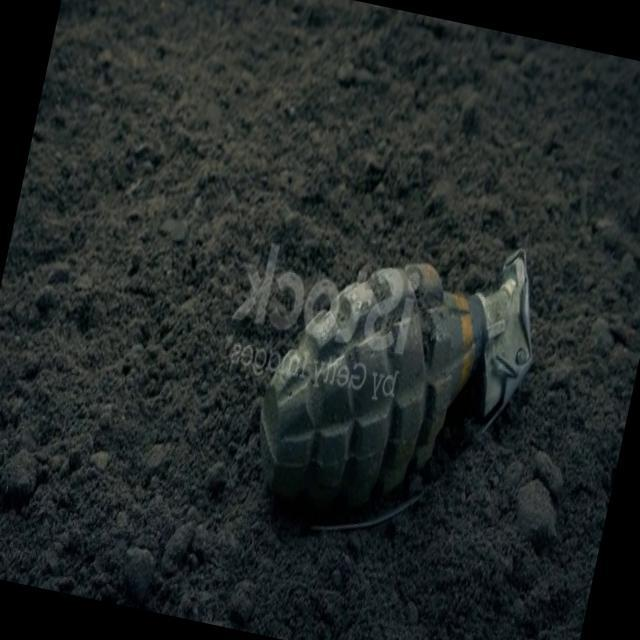grenade: (228, 195, 556, 580)
